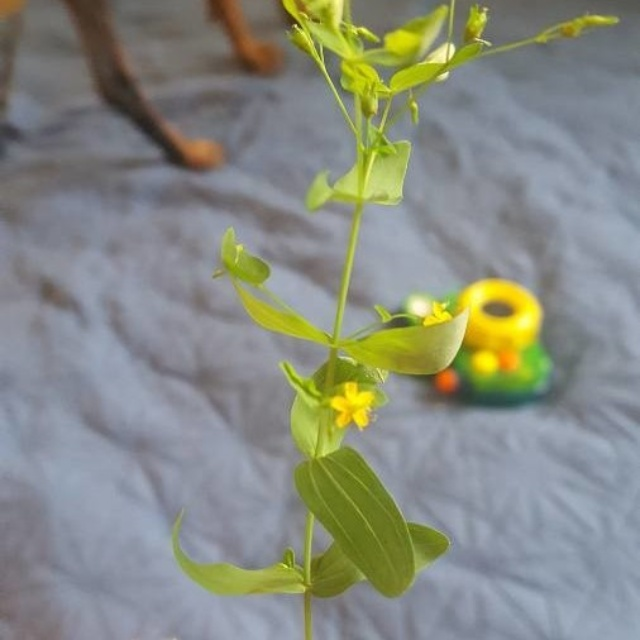obstacle: (234, 14, 431, 607)
